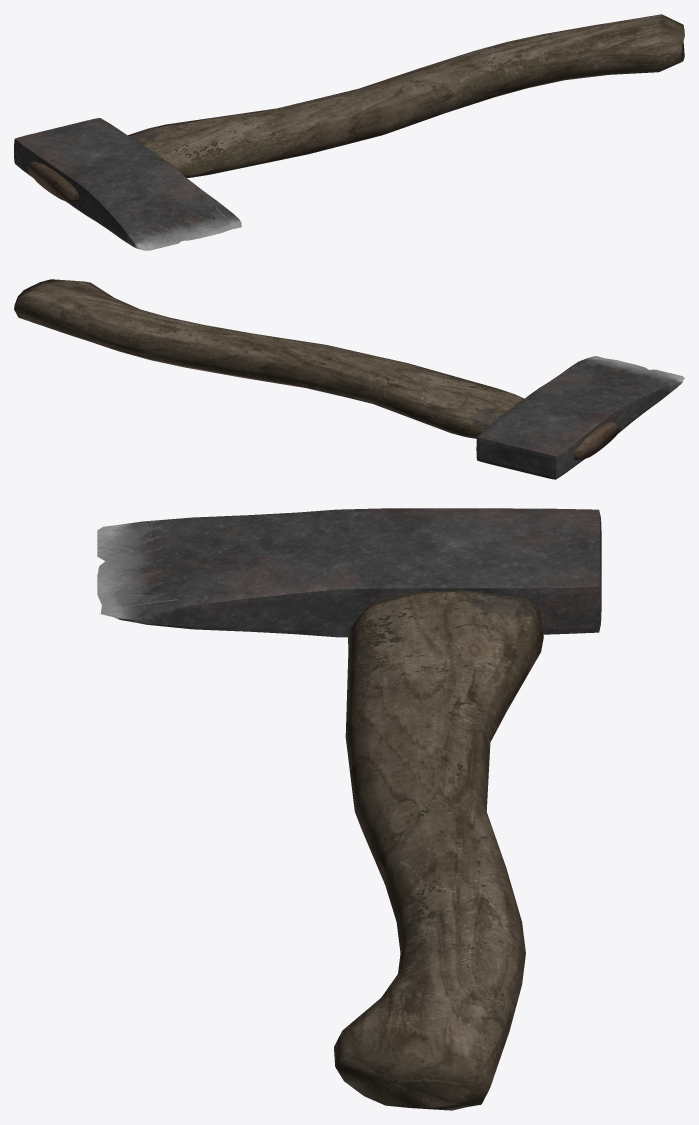
The model's file is old_hatchet_freegameready.glb.
3 renders of one model, top to bottom at view 1: azimuth 30°, elevation 25°; view 2: azimuth 150°, elevation 25°; view 3: azimuth 270°, elevation 25°, orthographic. The views are drawn at different scales.
Visible parts, largest first — view 1: BladeLP; view 2: BladeLP; view 3: BladeLP.
Part boxes in pixels (bbox=[...]): BladeLP: bbox=[14, 14, 684, 250]; BladeLP: bbox=[14, 279, 684, 479]; BladeLP: bbox=[97, 508, 601, 1110].
Bounding box in the file's own units: 363 × 21.75 × 137.
1 material, 1 textured.
